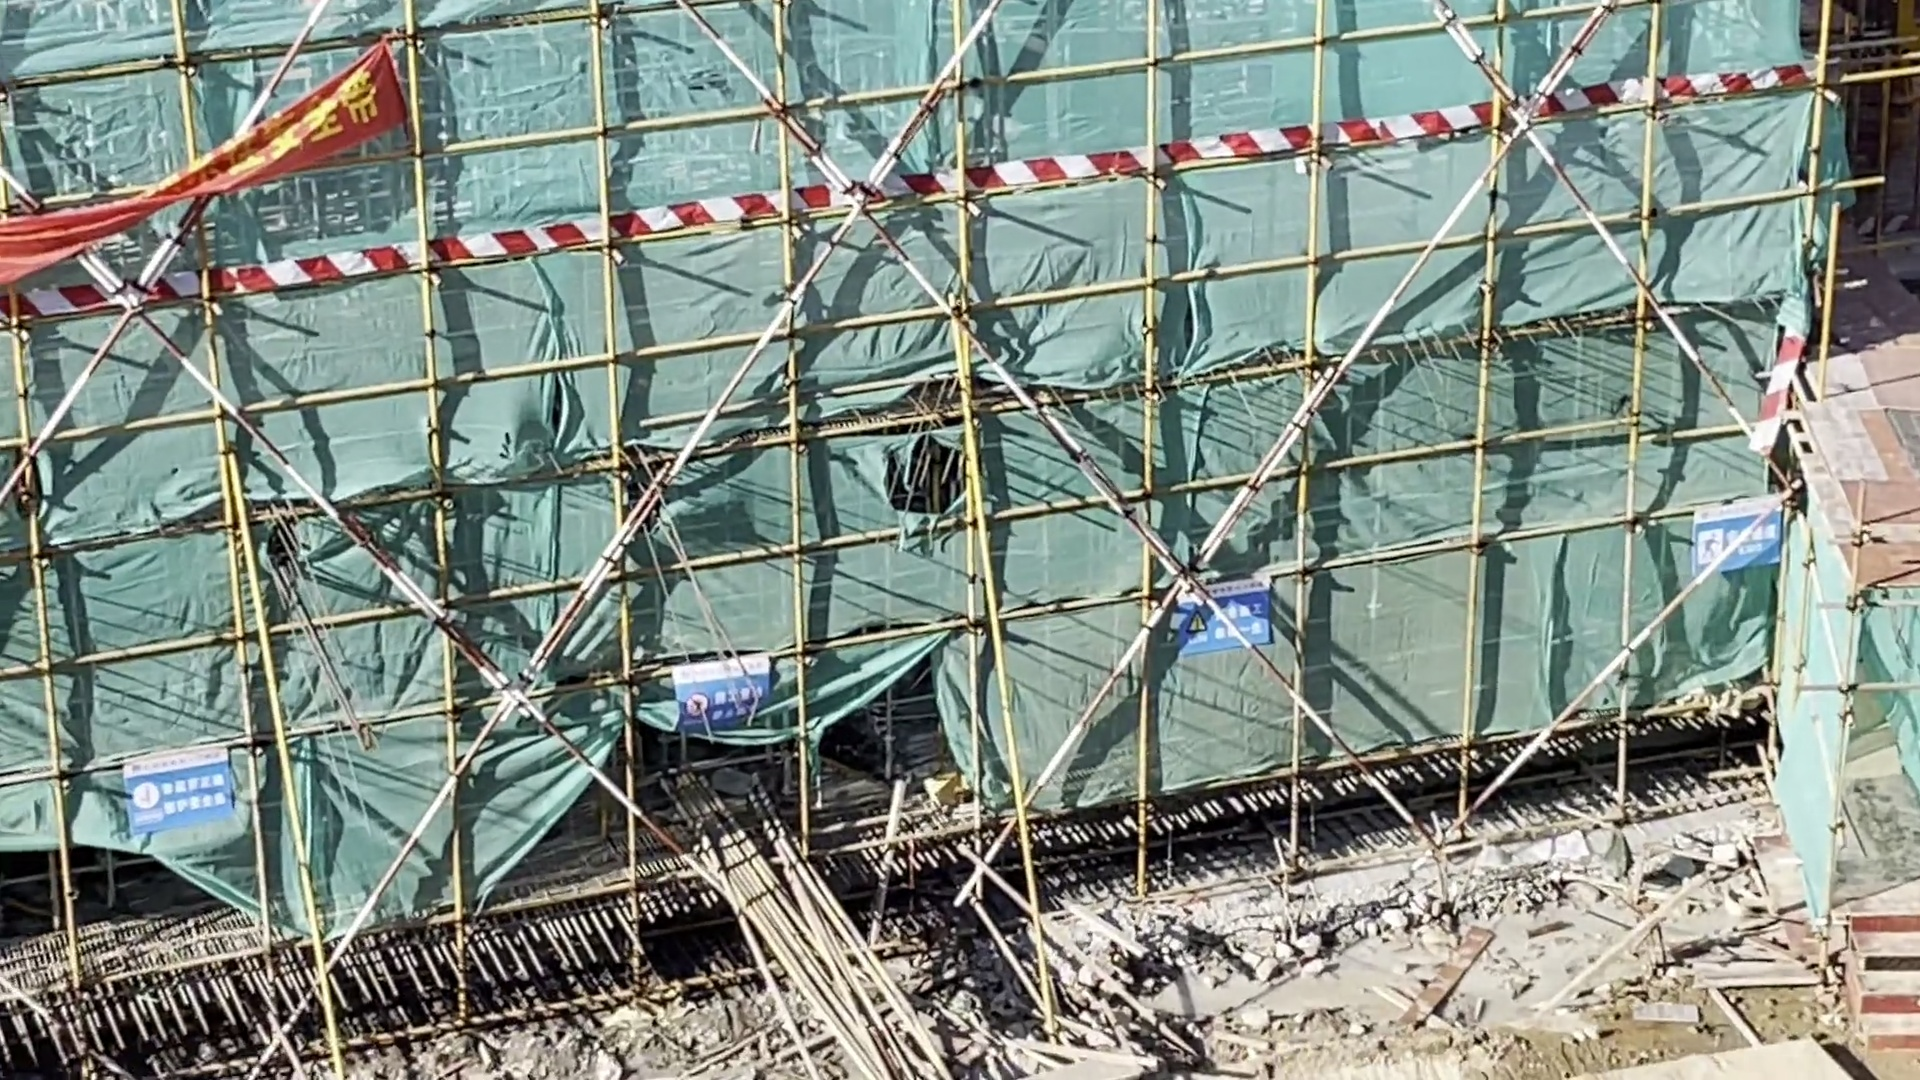slogan: (1, 28, 425, 309), (654, 644, 795, 749), (109, 742, 251, 843), (1151, 568, 1280, 669), (1676, 495, 1803, 575)
